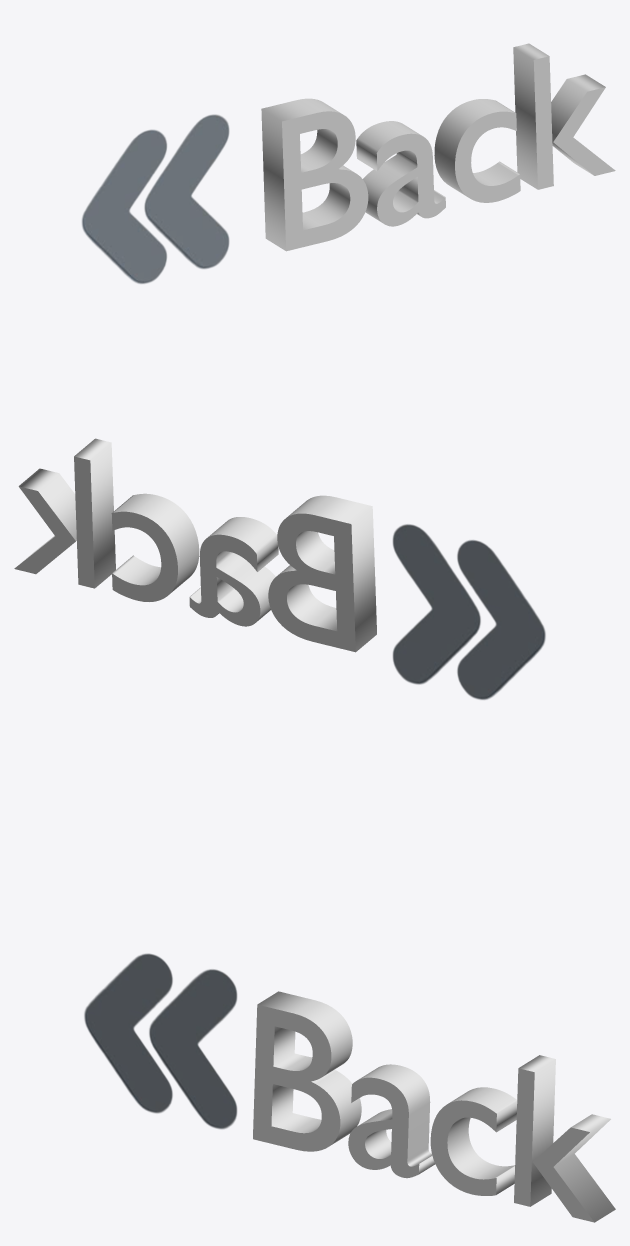
Rendered from Back.glb.
3 views of the same model, one above another, from view 1: azimuth 30°, elevation 25°; view 2: azimuth 150°, elevation 25°; view 3: azimuth 330°, elevation 25° (orthographic). The views are drawn at different scales.
Visible parts, largest first — view 1: Text, next-Photoroom; view 2: Text, next-Photoroom; view 3: Text, next-Photoroom.
Part boxes in pixels (x1,y1,x2,y2): Text: (261,43,615,251); next-Photoroom: (82,114,229,283); Text: (14,438,376,652); next-Photoroom: (392,524,545,699); Text: (253,991,615,1222); next-Photoroom: (84,953,237,1129).
Bounding box in the file's own units: 3.26 × 1.64 × 0.2417.
2 materials, 1 textured.
